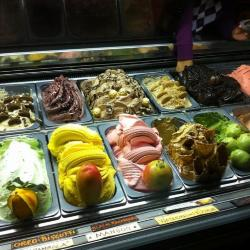icecream: (46, 126, 118, 203), (1, 139, 49, 216), (86, 74, 150, 116), (108, 126, 160, 167), (143, 76, 192, 112), (43, 81, 82, 118)
